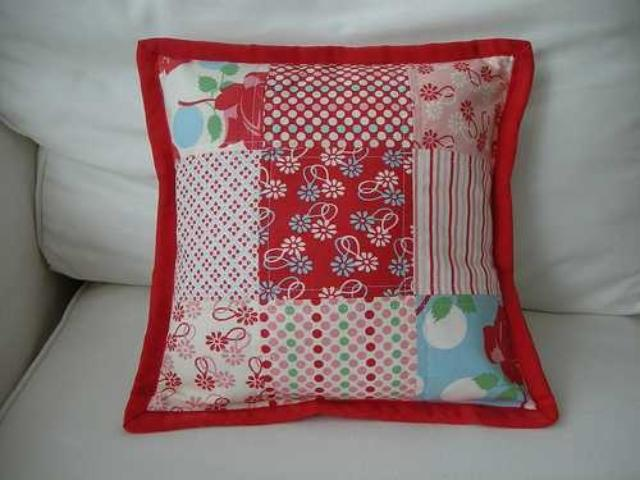pillow: (122, 35, 558, 433)
